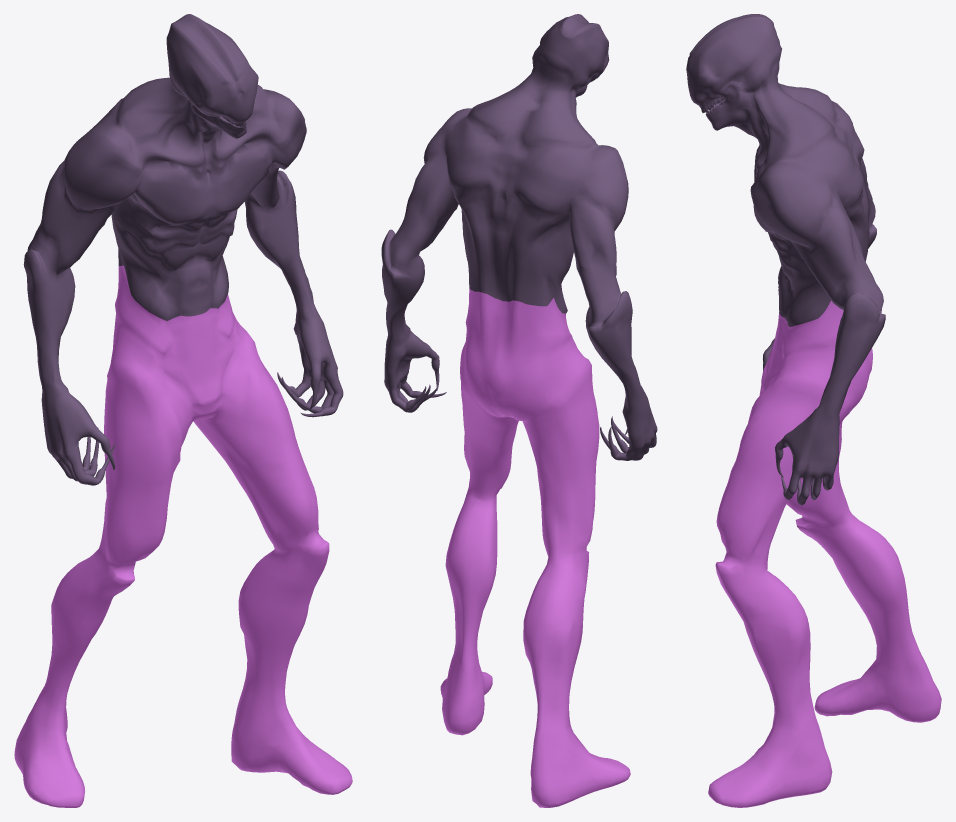
The model's file is biomech-mutant.glb.
3 renders of one model, left to right at view 1: azimuth 30°, elevation 25°; view 2: azimuth 150°, elevation 25°; view 3: azimuth 270°, elevation 25°, orthographic. The views are drawn at different scales.
Visible parts, largest first — view 1: Object_3, Object_2; view 2: Object_2, Object_3; view 3: Object_3, Object_2.
Boxes of the visible parts, left/top/right/bottom form: Object_3: left=14, top=265, right=352, bottom=807; Object_2: left=23, top=14, right=343, bottom=485; Object_2: left=381, top=14, right=657, bottom=460; Object_3: left=440, top=288, right=630, bottom=807; Object_3: left=708, top=300, right=941, bottom=807; Object_2: left=686, top=14, right=885, bottom=505.
Bounding box in the file's own units: 67.17 × 177 × 55.78.
